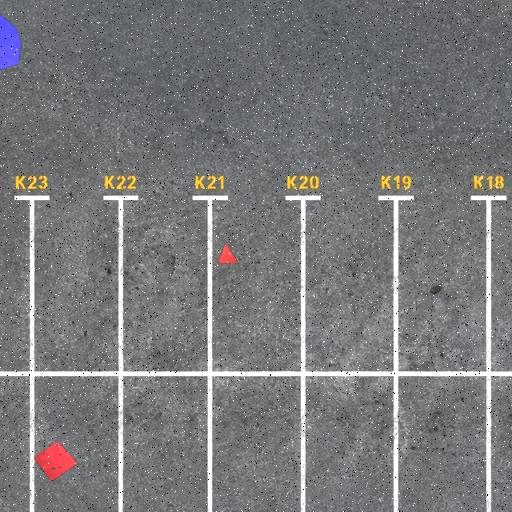RED_SQUARE: (32, 440, 78, 482)
